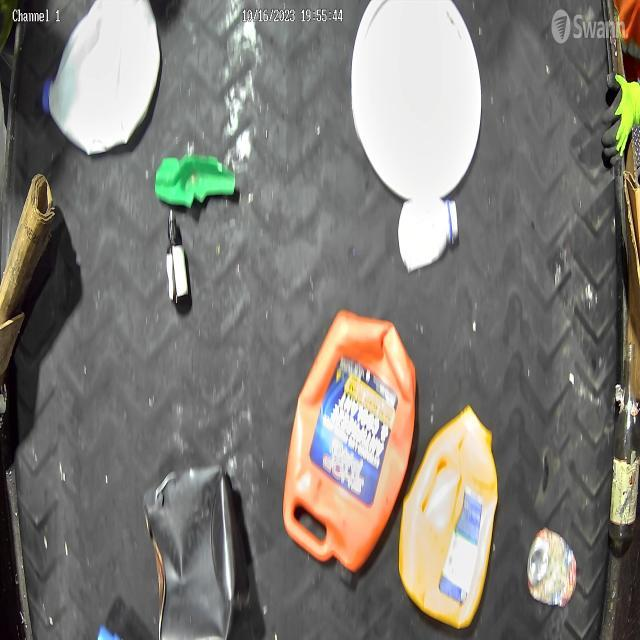can: (524, 518, 578, 630)
milk_jug: (40, 0, 161, 166)
non_white_jug: (284, 301, 419, 575), (399, 398, 498, 636)
